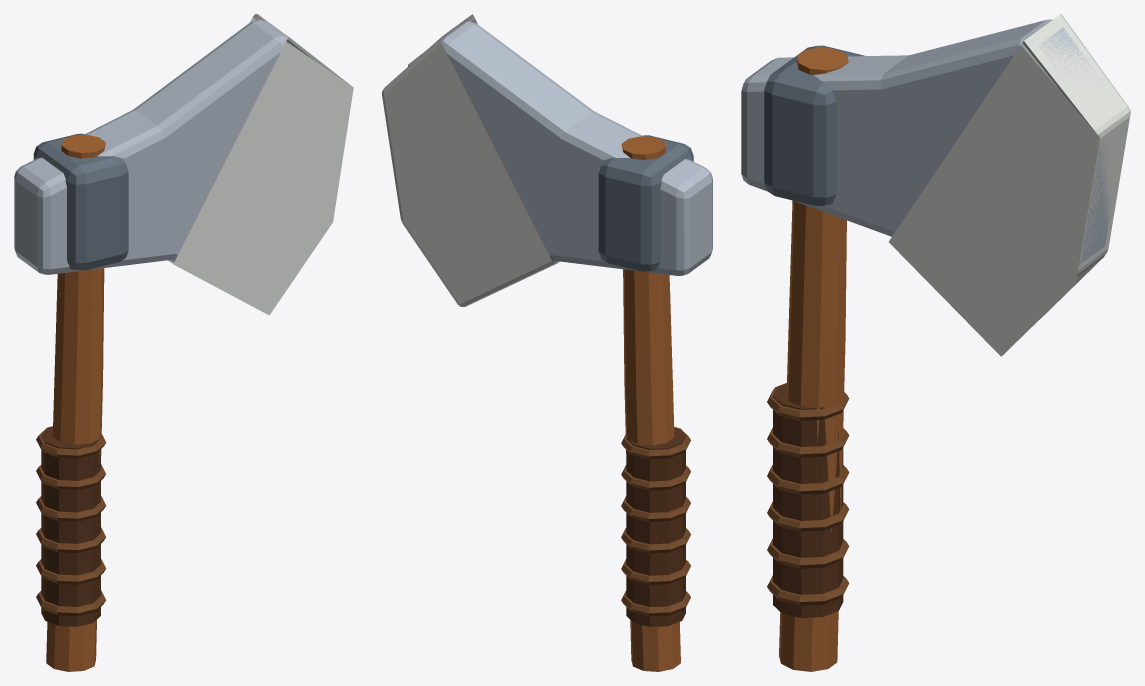
The model's file is kit_axe.glb.
3 views of the same model, side by side, from view 1: azimuth 30°, elevation 25°; view 2: azimuth 150°, elevation 25°; view 3: azimuth 330°, elevation 25° (orthographic). The views are drawn at different scales.
Parts seen in each view (by area): view 1: Sharpened axe cutting edge, Forged crescent axe blade, Axe ash handle, Leather axe grip, Iron axe socket, Grip wrapping.005, Grip wrapping.003, Grip wrapping, Grip wrapping.001, Grip wrapping.002, Grip wrapping.004; view 2: Forged crescent axe blade, Sharpened axe cutting edge, Axe ash handle, Leather axe grip, Iron axe socket, Grip wrapping.005, Grip wrapping.001, Grip wrapping.002, Grip wrapping.004, Grip wrapping.003, Grip wrapping; view 3: Sharpened axe cutting edge, Forged crescent axe blade, Axe ash handle, Leather axe grip, Iron axe socket, Grip wrapping.001, Grip wrapping, Grip wrapping.002, Grip wrapping.003, Grip wrapping.005, Grip wrapping.004.
Part boxes in pixels (box(x1,y1,x2,y2)): Sharpened axe cutting edge: box(168, 14, 353, 315); Forged crescent axe blade: box(14, 19, 287, 274); Axe ash handle: box(46, 134, 105, 671); Leather axe grip: box(41, 426, 100, 626); Iron axe socket: box(33, 133, 128, 270); Grip wrapping.005: box(36, 427, 106, 458); Grip wrapping.003: box(36, 496, 106, 521); Grip wrapping: box(36, 590, 105, 616); Grip wrapping.001: box(36, 559, 106, 584); Grip wrapping.002: box(36, 527, 105, 553); Grip wrapping.004: box(36, 464, 105, 490); Forged crescent axe blade: box(440, 21, 712, 275); Sharpened axe cutting edge: box(382, 14, 559, 306); Axe ash handle: box(621, 136, 680, 671); Leather axe grip: box(626, 427, 685, 626); Iron axe socket: box(598, 135, 693, 271); Grip wrapping.005: box(621, 428, 690, 459); Grip wrapping.001: box(621, 559, 690, 584); Grip wrapping.002: box(621, 528, 690, 553); Grip wrapping.004: box(621, 465, 690, 490); Grip wrapping.003: box(621, 496, 690, 521); Grip wrapping: box(621, 591, 690, 616); Sharpened axe cutting edge: box(889, 14, 1130, 356); Forged crescent axe blade: box(741, 19, 1112, 264); Axe ash handle: box(779, 47, 848, 671); Leather axe grip: box(773, 383, 843, 617); Iron axe socket: box(764, 45, 864, 206); Grip wrapping.001: box(767, 538, 849, 568); Grip wrapping: box(767, 575, 849, 605); Grip wrapping.002: box(767, 502, 849, 531); Grip wrapping.003: box(767, 465, 849, 494); Grip wrapping.005: box(767, 383, 849, 420); Grip wrapping.004: box(767, 428, 849, 457).
Size of the model in its own units: 0.6196 by 1.12 by 0.16.
